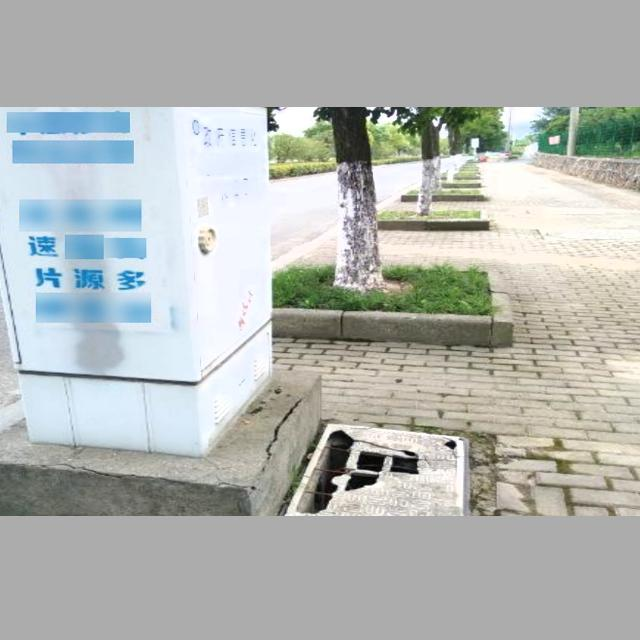broke: (275, 420, 477, 516)
